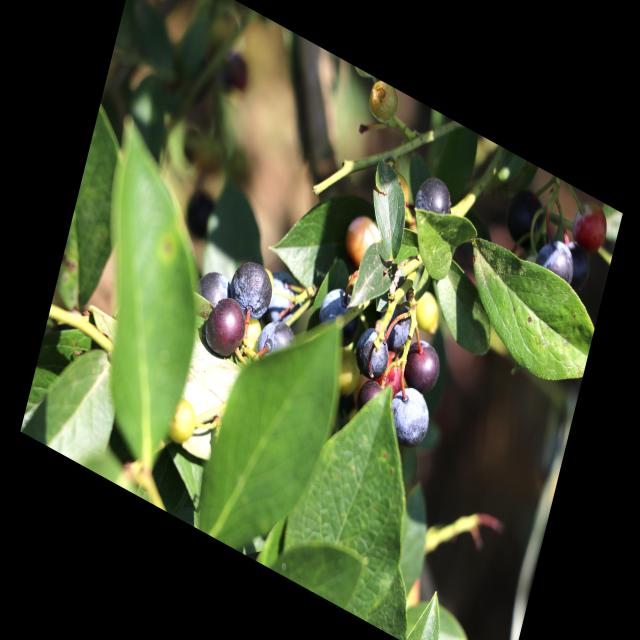blueberry: (198, 288, 252, 372), (380, 377, 438, 452), (396, 329, 446, 403), (228, 252, 277, 325), (314, 280, 362, 352), (250, 309, 300, 374), (531, 230, 576, 296), (374, 297, 417, 362), (350, 320, 393, 383), (414, 167, 457, 226), (195, 264, 232, 315)
blueberry-halfripe: (564, 194, 612, 266), (341, 206, 385, 274), (372, 347, 405, 397)
blueberry-unripe: (360, 74, 402, 132), (162, 391, 200, 452), (410, 279, 448, 334)
